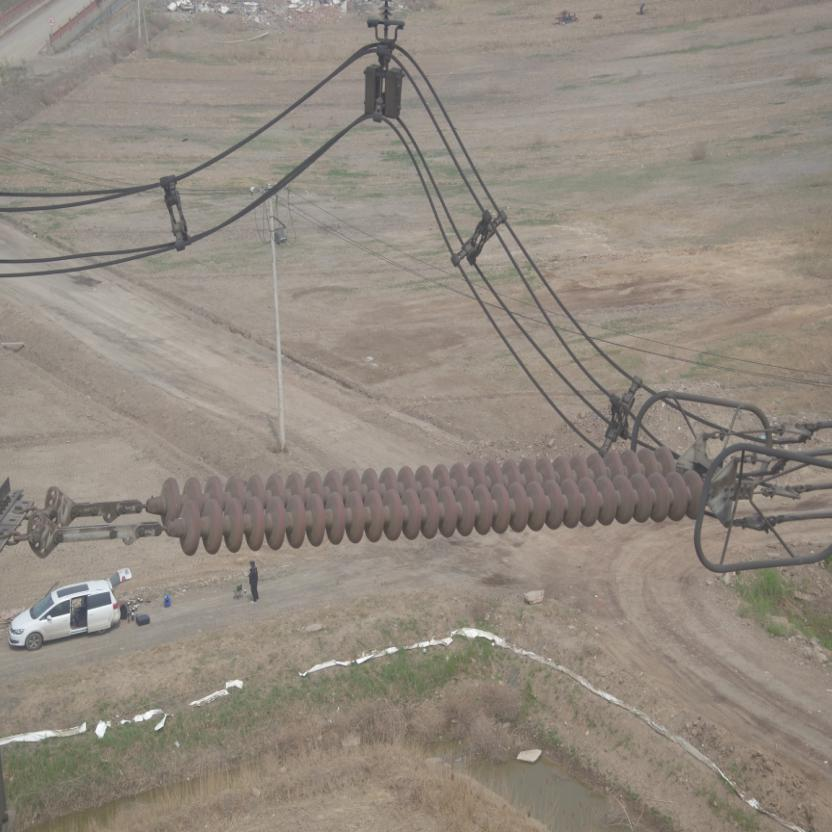insulator: (109, 437, 716, 558)
